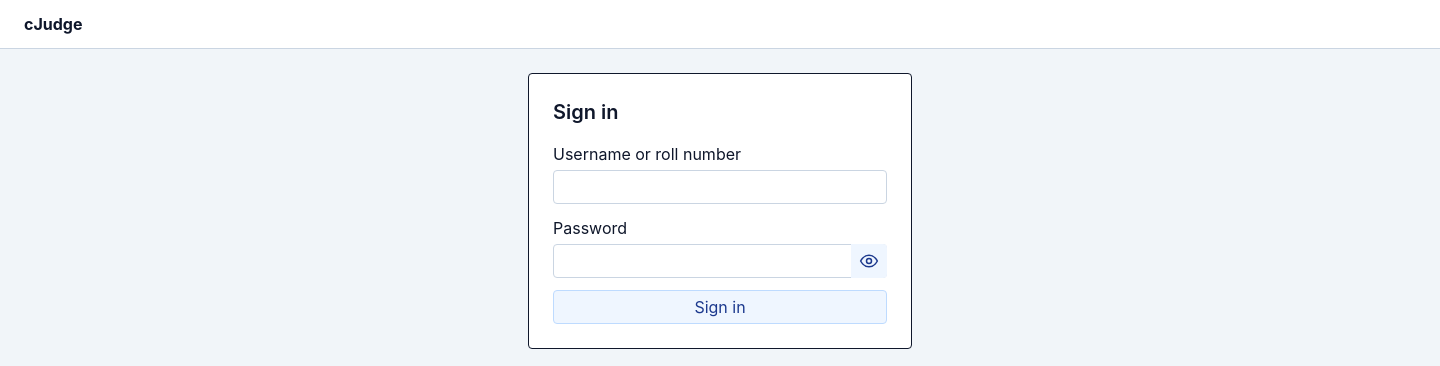
Test: unified admin login opens the correct view and logs out
The image size is (1440, 366).
Type "admin" into the field labelled "Username or roll number" at (720, 187), box [553,170,887,204]
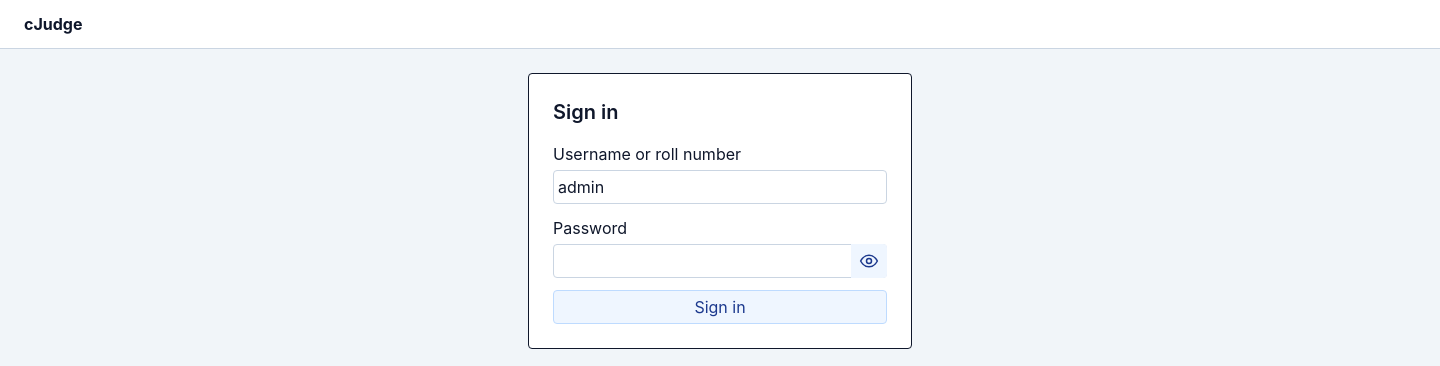
Type "password" into the password field labelled "Password" at (720, 261), box [553,244,887,278]
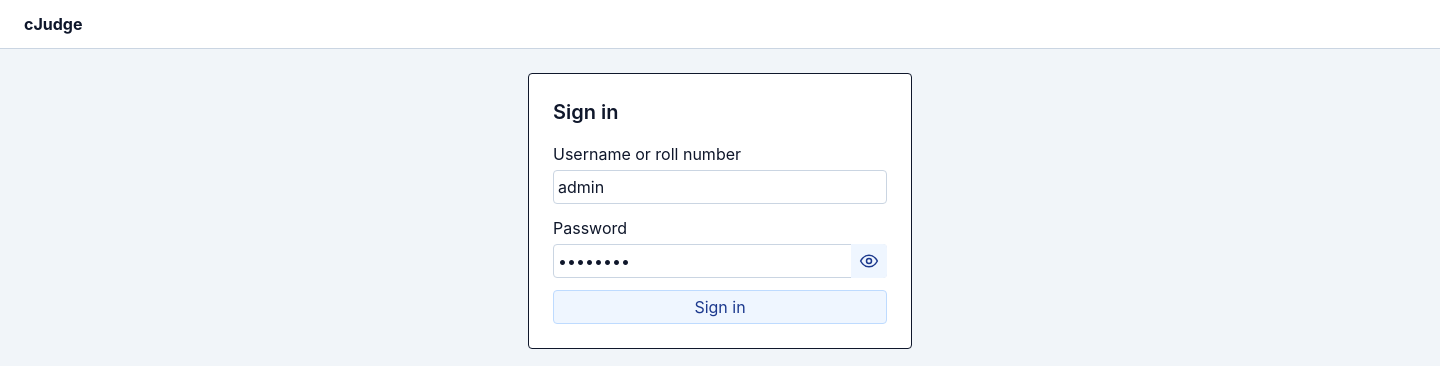
Click the button "Sign in" at (720, 307), box [553,290,887,324]
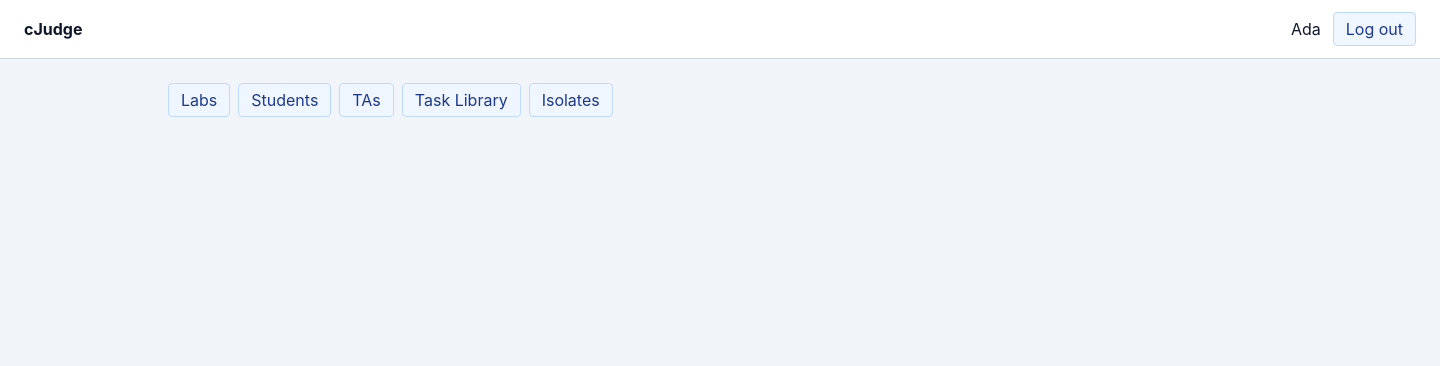
Check: the navigation bar named "Admin navigation" is shown, box [168,83,613,117]
Click the button "Log out" at (1374, 29), box [1333,12,1416,46]
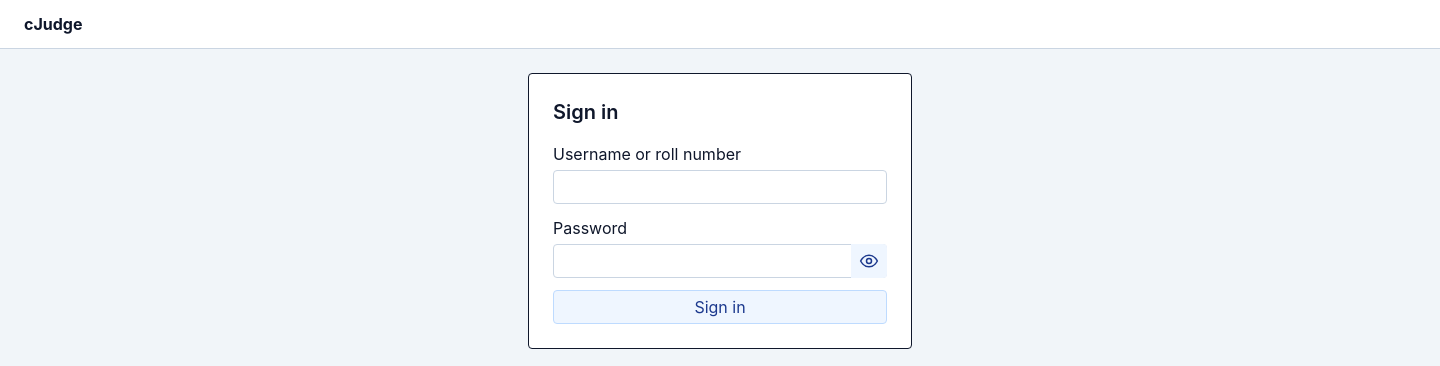
Check: the heading "Sign in" is shown, box [553,100,618,124]
